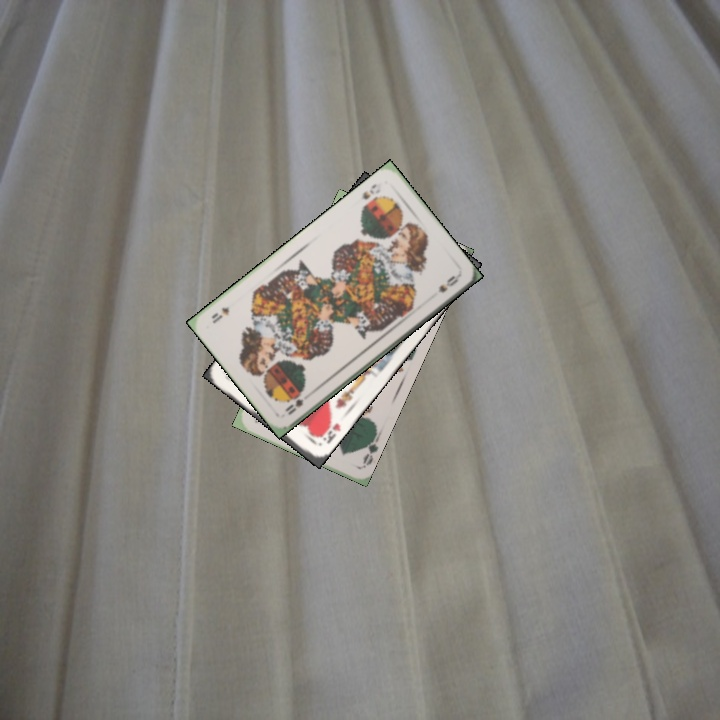GO: (357, 428, 383, 469)
HK: (314, 413, 343, 446)
SO: (281, 390, 306, 418), (358, 179, 385, 202)
